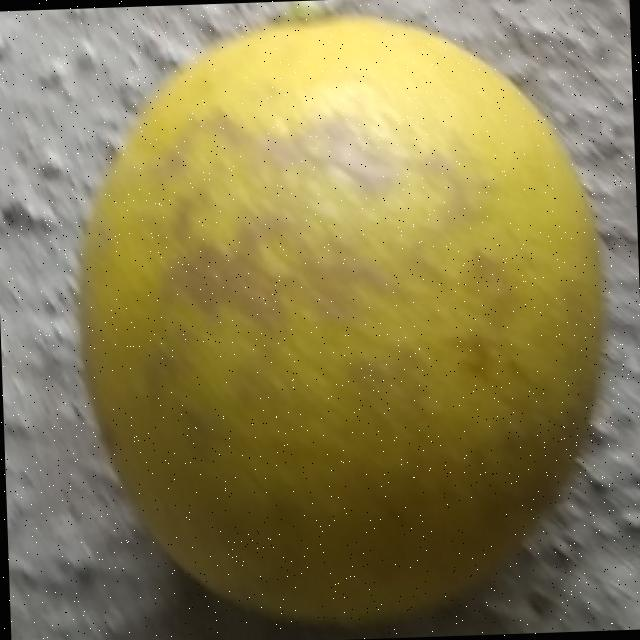overripe: (62, 6, 620, 632)
